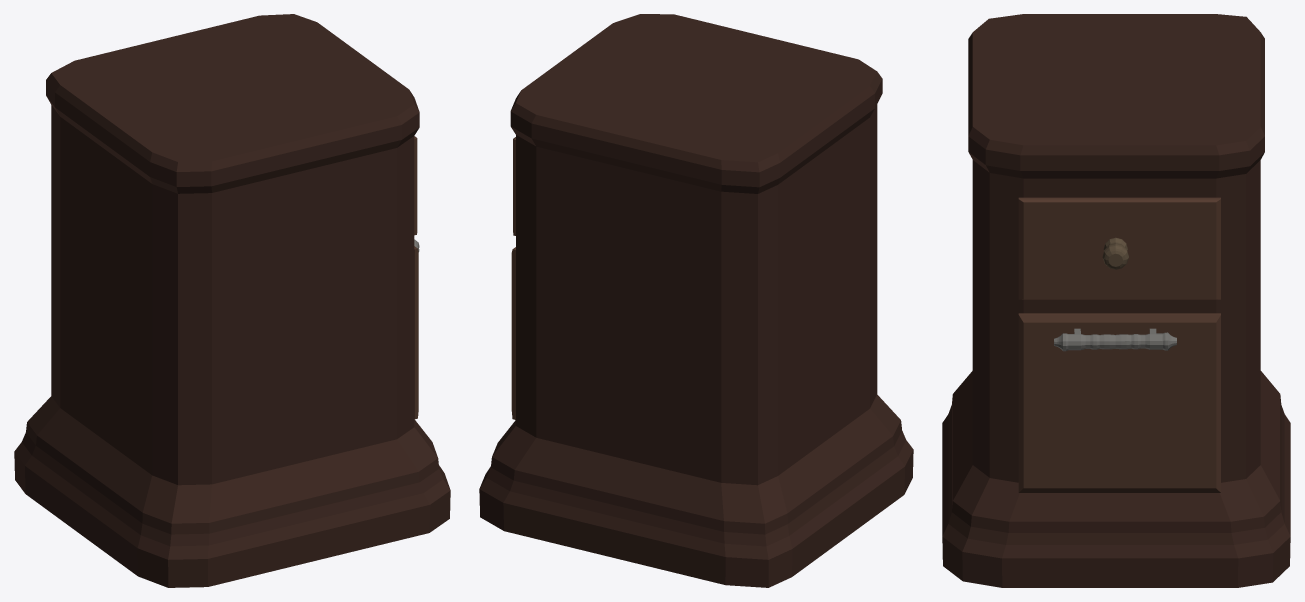
File: tymbochka blend.fbx
3 renders of one model, left to right at view 1: azimuth 30°, elevation 25°; view 2: azimuth 150°, elevation 25°; view 3: azimuth 270°, elevation 25°, orthographic. The views are drawn at different scales.
Visible parts, largest first — view 1: tumbohka; view 2: tumbohka; view 3: tumbohka.
Part boxes in pixels (<box>): tumbohka: <box>14,14,450,587</box>; tumbohka: <box>479,14,913,587</box>; tumbohka: <box>942,14,1290,587</box>.
Size of the model in its own units: 12.33 by 15.47 by 11.35.
